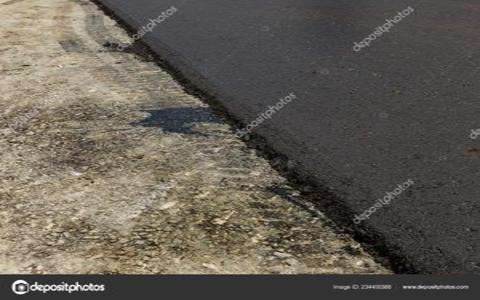Proper road: (230, 6, 431, 167)
